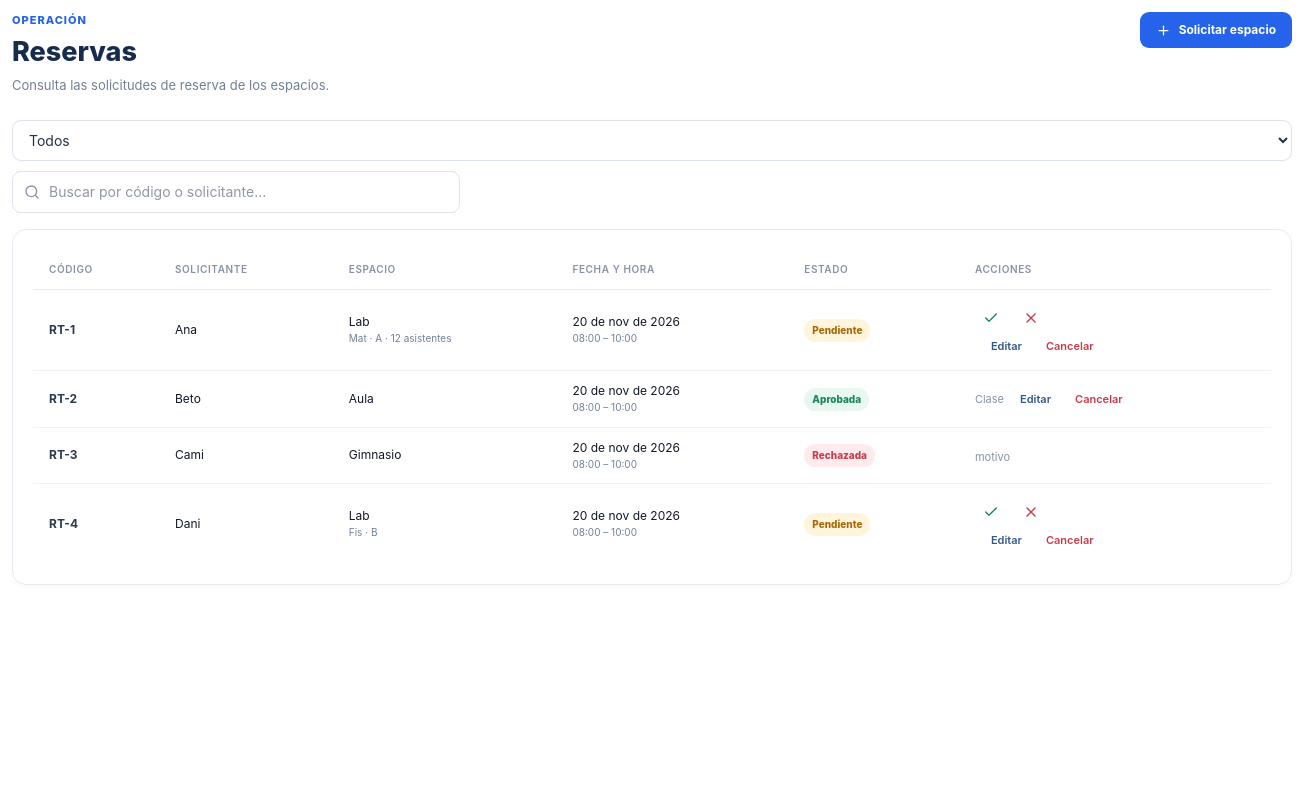
it: ReservationsPage · revisión › aprueba y rechaza reservas pendientes (solo las pendientes tienen botones)
The width and height of the screenshot is (1304, 812).
expect the text "RT-1" is shown: met, box [33,289,159,371]
Click the button named "Aprobar reserva" in the row of "RT-1" at (991, 318), box [975,302,1007,334]
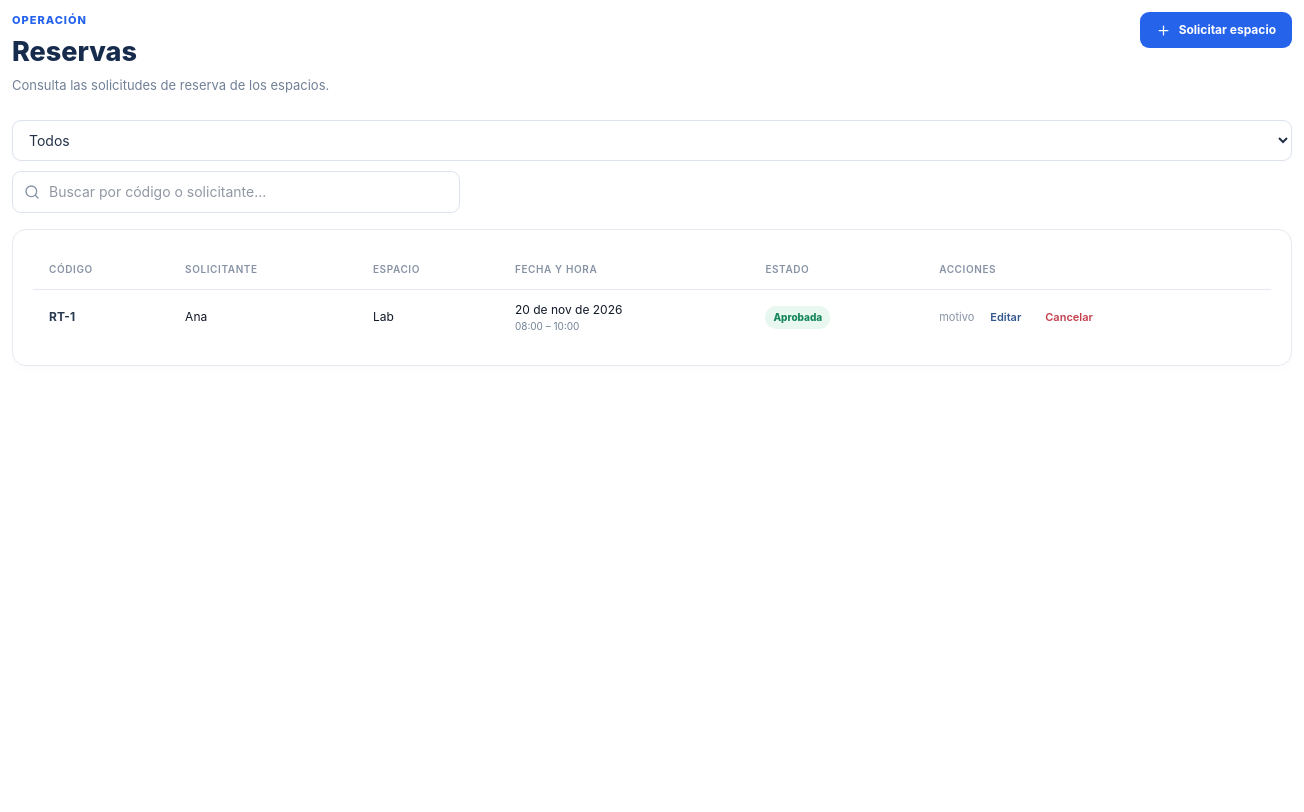
expect the text "RT-4" is gone: met
